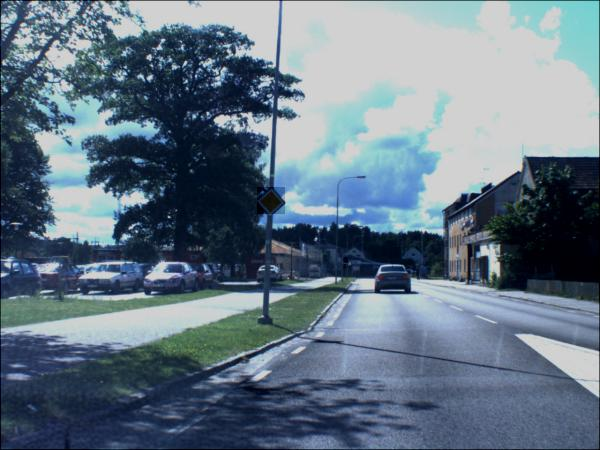NO_STOPPING_NO_STANDING: (343, 258, 349, 265)
PEDESTRIAN_CROSSING: (348, 263, 352, 267)
PRIORITY_ROAD: (257, 188, 286, 216), (344, 265, 349, 270)
